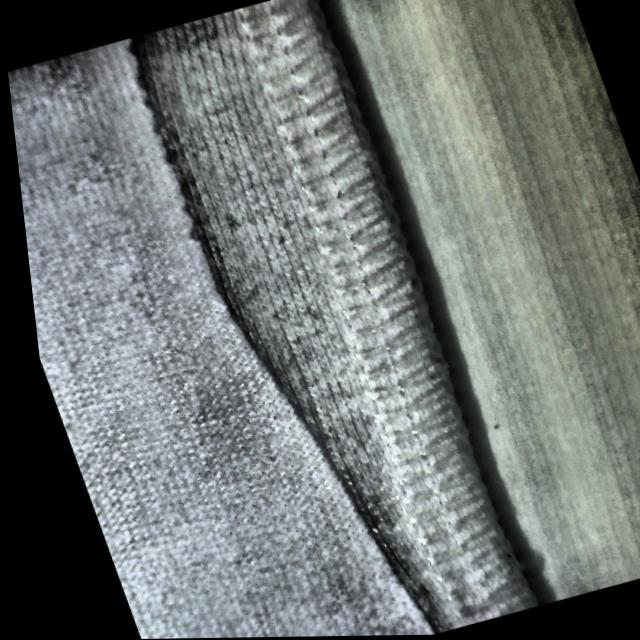seam: (67, 0, 504, 579)
